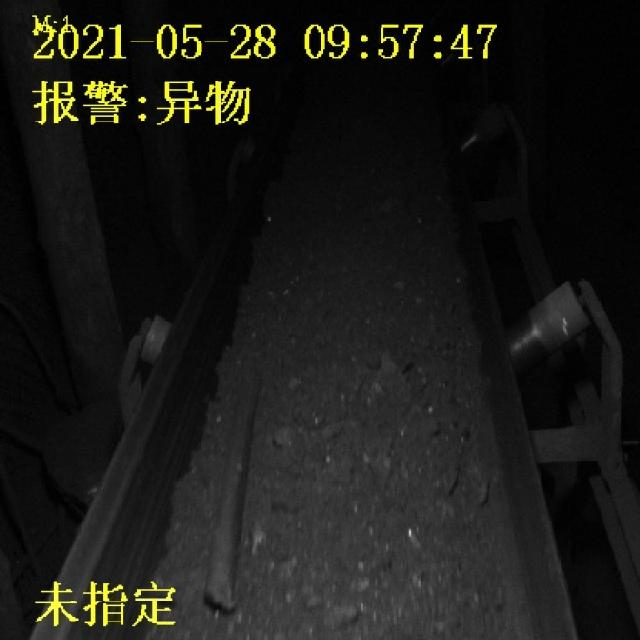bolt: (203, 375, 266, 608)
